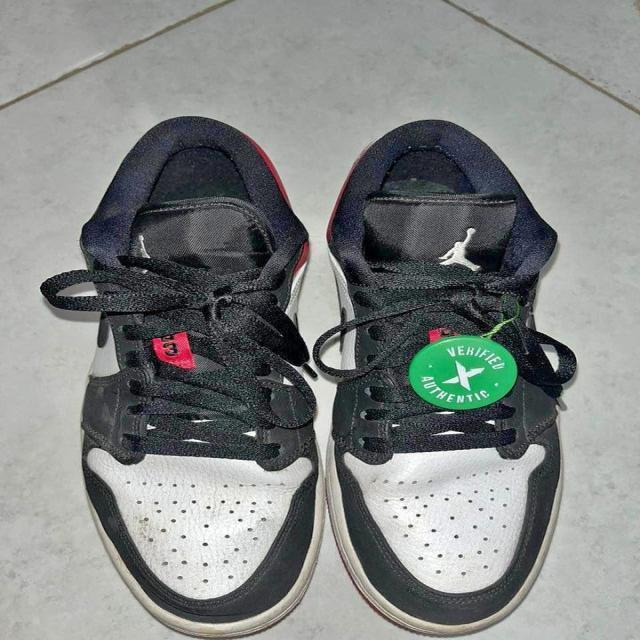nike original jordan 1: (71, 115, 340, 640), (312, 125, 574, 638)
